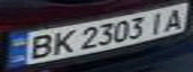0: (112, 18, 133, 43)
2: (75, 24, 100, 52)
3: (127, 15, 151, 39), (97, 20, 118, 47)
A: (160, 6, 190, 31)
B: (21, 32, 57, 61)
I: (145, 9, 172, 35)
K: (45, 28, 78, 56)
